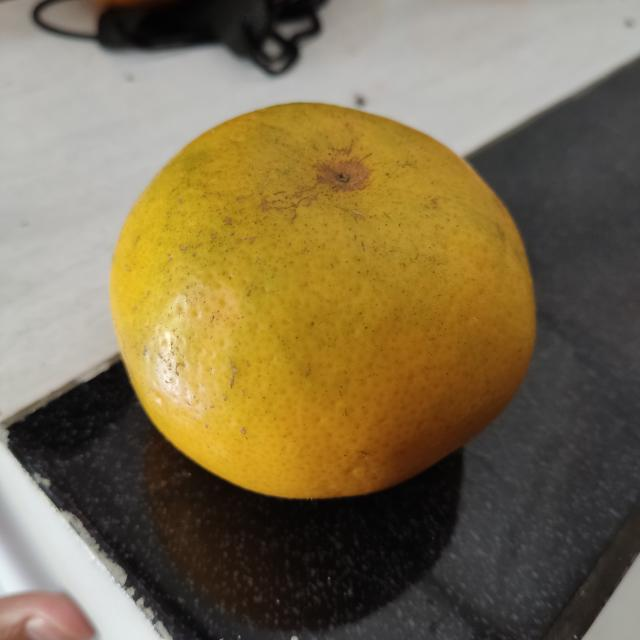orange: (106, 100, 537, 500)
